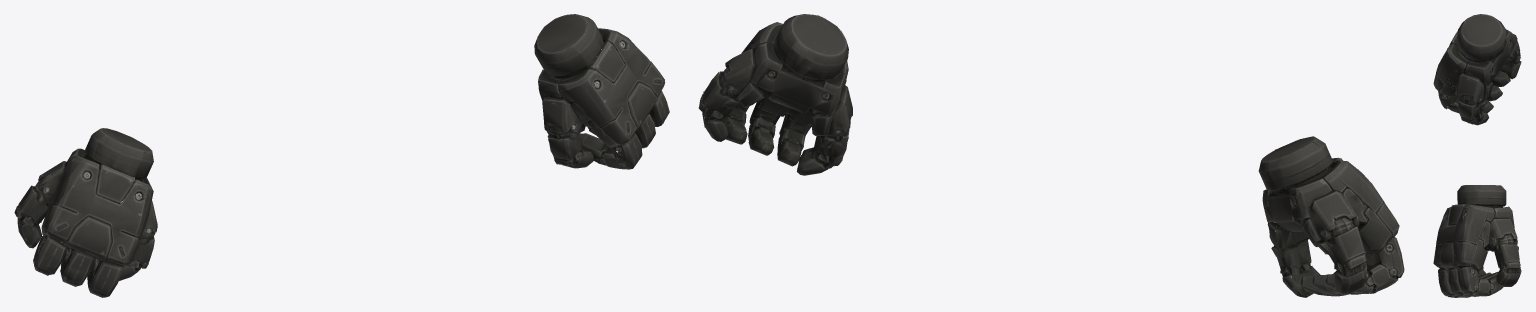
File: piece_hand_classic.glb
The picture shows the model from 3 angles, left to right: view 1: azimuth 30°, elevation 25°; view 2: azimuth 150°, elevation 25°; view 3: azimuth 270°, elevation 25°; orthographic projection. The views are drawn at different scales.
Visible parts, largest first — view 1: trait_hand_classic_right, trait_hand_classic_left; view 2: trait_hand_classic_left, trait_hand_classic_right; view 3: trait_hand_classic_left, trait_hand_classic_right.
Boxes of the visible parts, box(x1,y1,x2,y2) form: trait_hand_classic_right: box(14, 128, 157, 297); trait_hand_classic_left: box(534, 14, 669, 169); trait_hand_classic_left: box(698, 14, 852, 175); trait_hand_classic_right: box(1258, 136, 1404, 297); trait_hand_classic_left: box(1433, 185, 1521, 297); trait_hand_classic_right: box(1433, 14, 1521, 125).
Size of the model in its own units: 1.46 by 0.321 by 0.2405.
2 materials, 2 textured.
